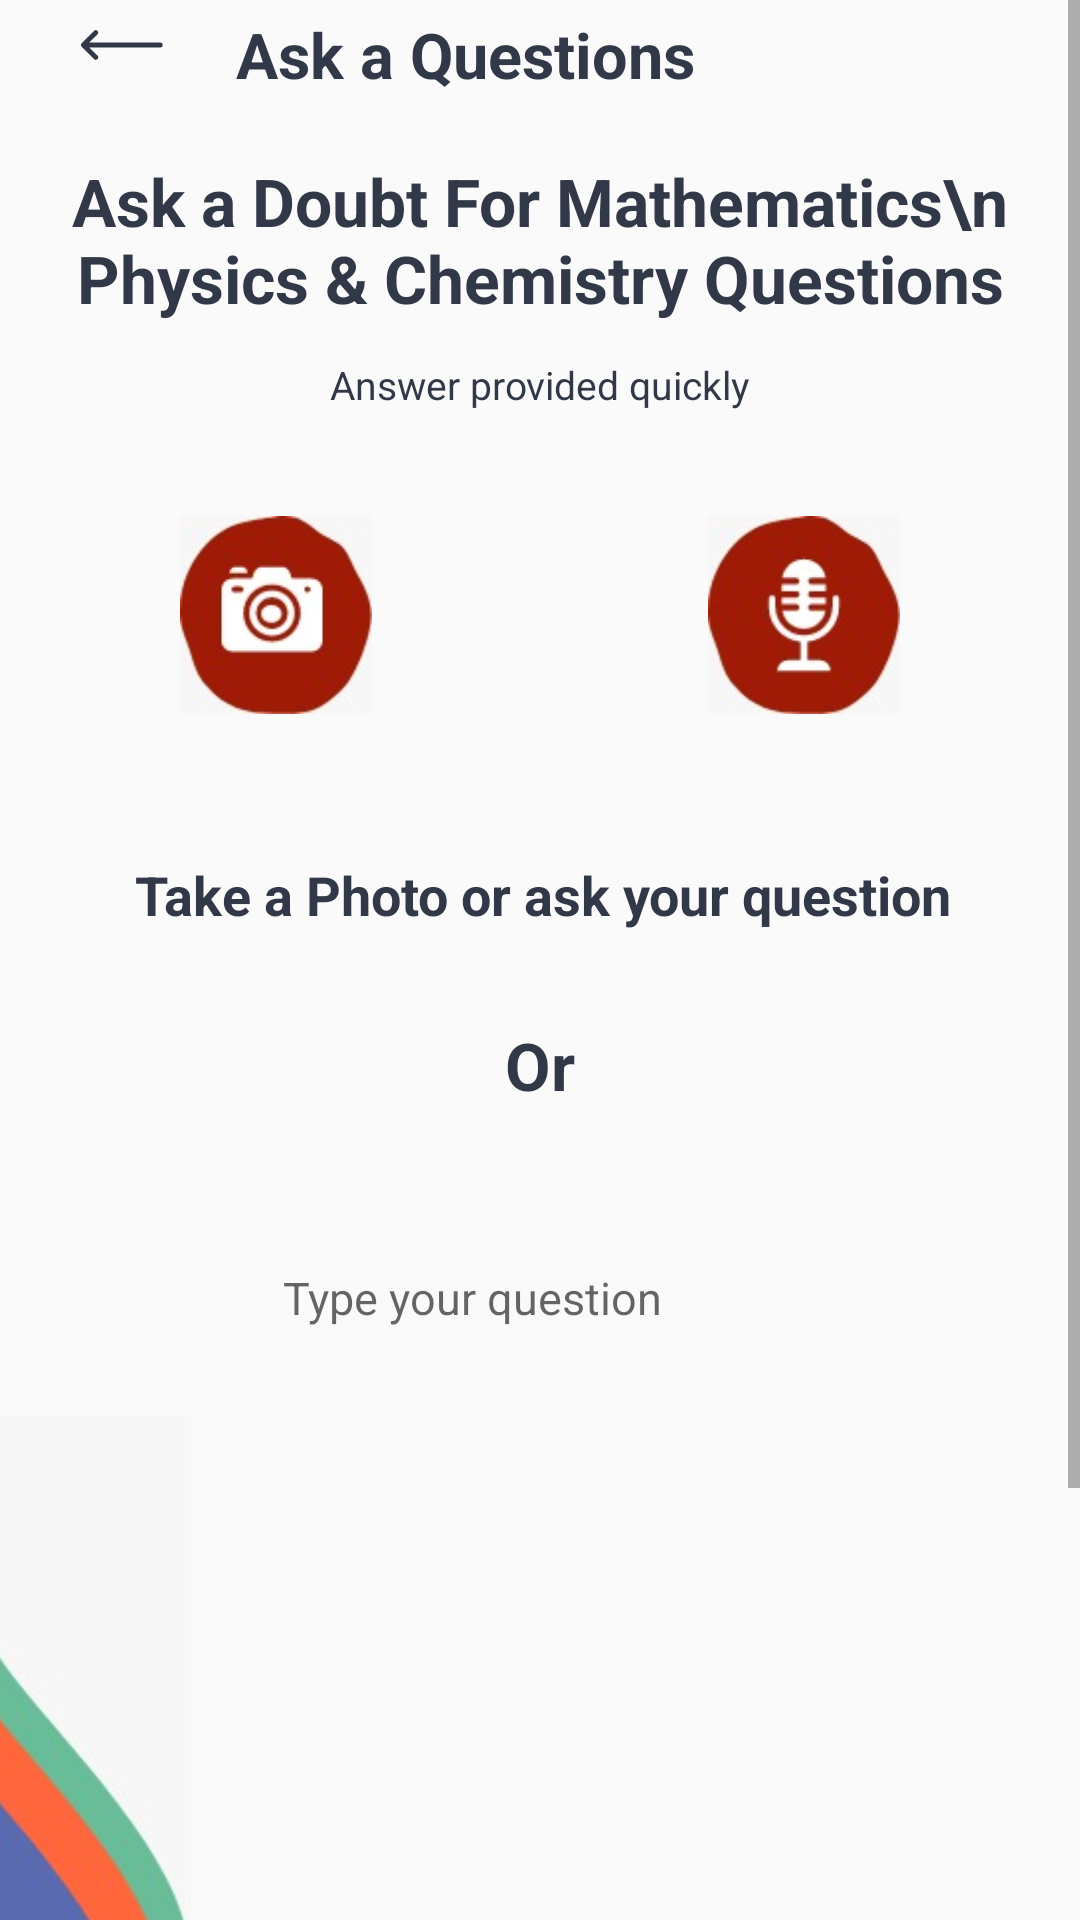

Icons on this 1080 x 1920 Android screen, each with the point to tap as (x=x, y=y):
camrapic: (x=276, y=615)
micpic: (x=804, y=615)
